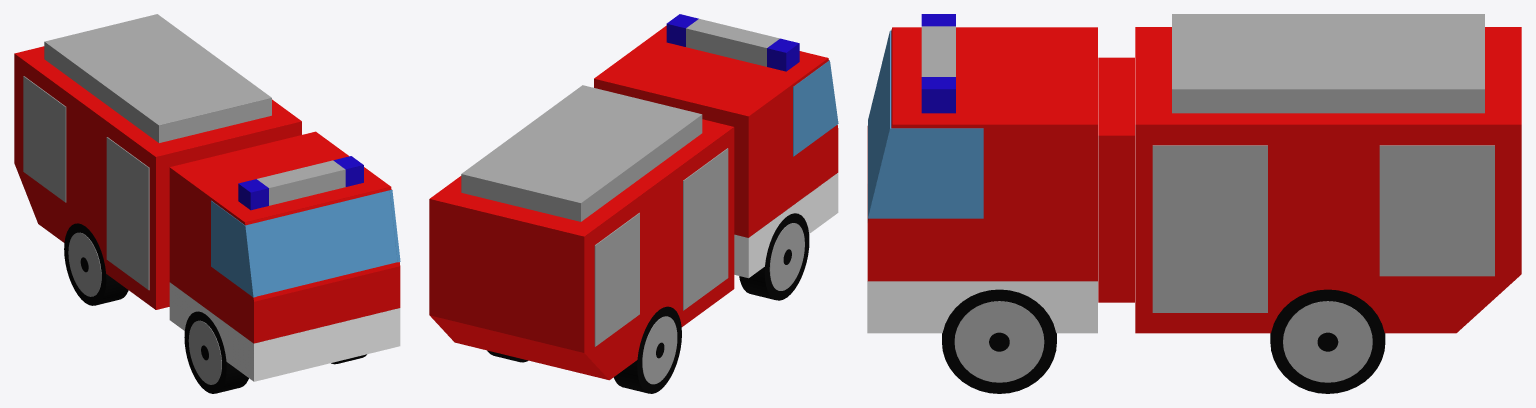
File: feuerwehr_test.dae
The picture shows the model from 3 angles, left to right: view 1: azimuth 30°, elevation 25°; view 2: azimuth 150°, elevation 25°; view 3: azimuth 270°, elevation 25°; orthographic projection. The views are drawn at different scales.
Parts seen in each view (by area): view 1: Feuerwehr; view 2: Feuerwehr; view 3: Feuerwehr.
Part boxes in pixels (x1,y1,x2,y2): Feuerwehr: (14, 14, 400, 393); Feuerwehr: (429, 14, 838, 393); Feuerwehr: (867, 14, 1521, 393).
Bounding box in the file's own units: 246 × 341 × 689.
